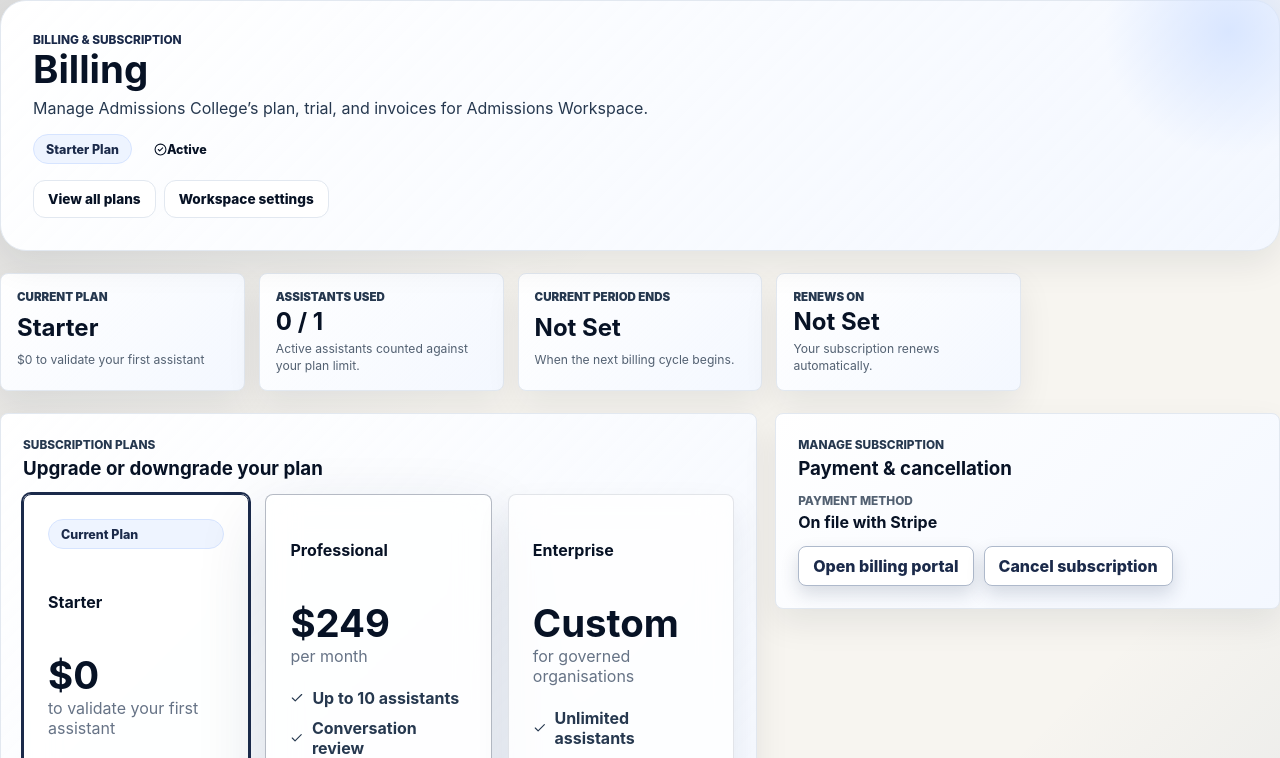
Test: BillingDashboardClient › closes the cancel dialog without cancelling when the user keeps the subscription
The image size is (1280, 758).
Click the button "Cancel subscription" at {"x": 1078, "y": 566}, box [984,546,1173,586]
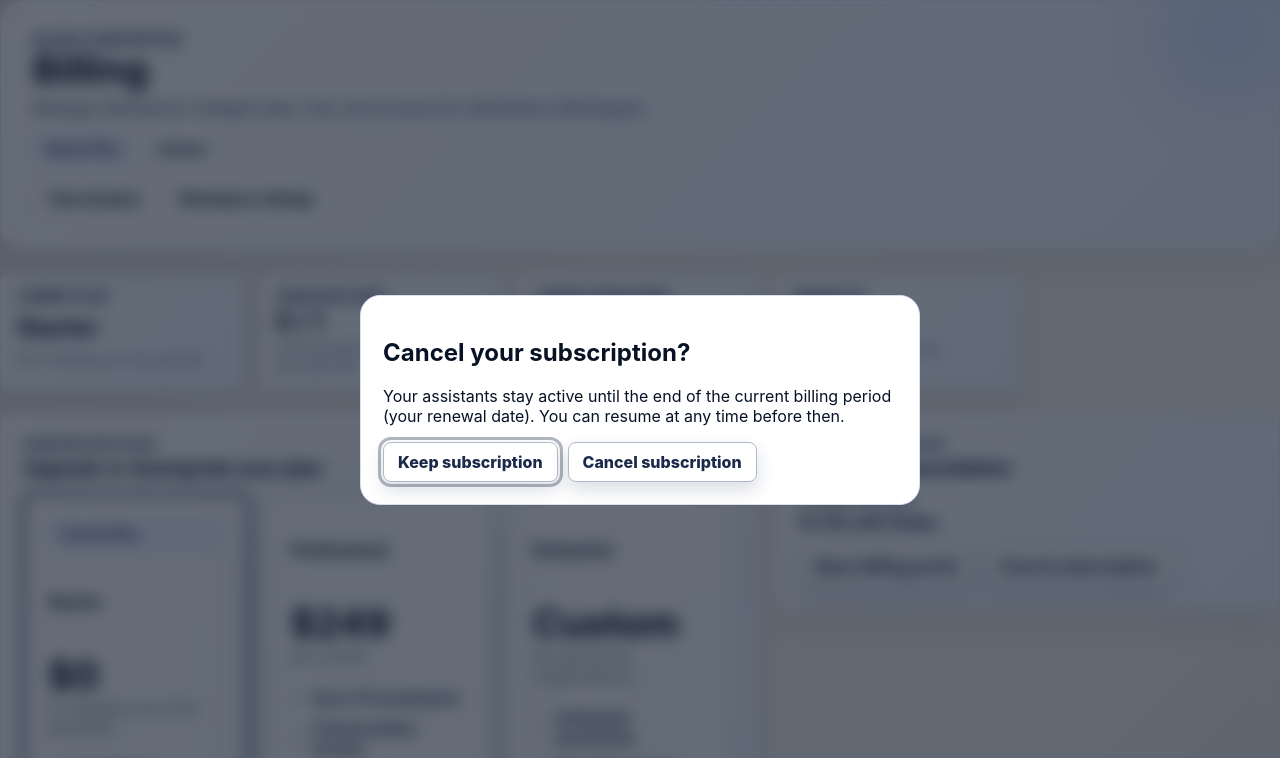
Click the button "Keep subscription" at {"x": 470, "y": 462}, box [383,442,558,482]
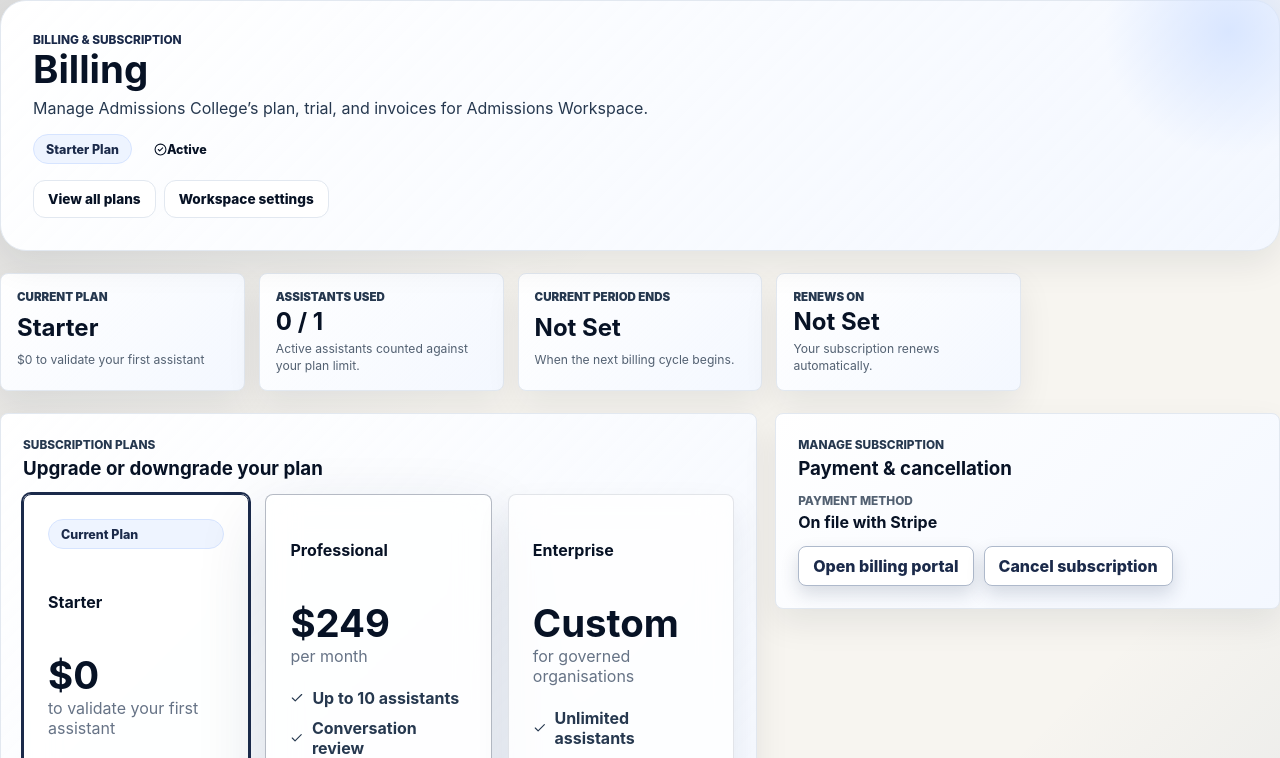
Expected: the dialog is gone
